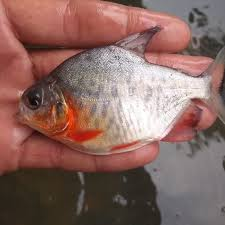Ikan Bawal: (17, 39, 225, 153)
